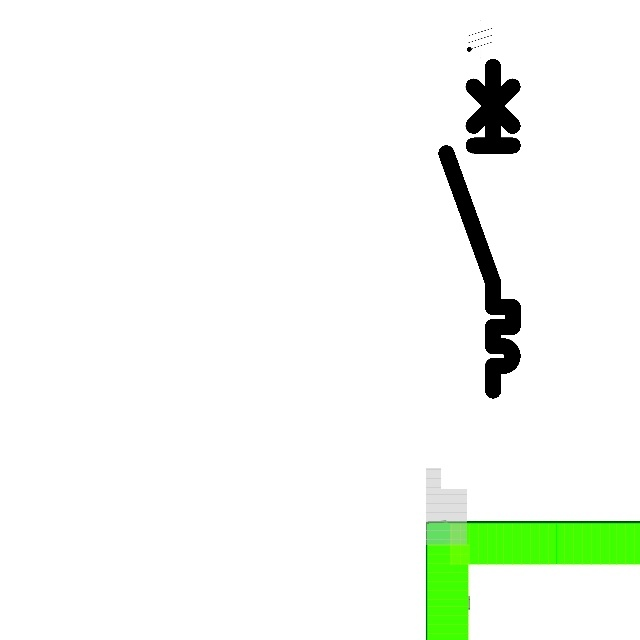interruptor_termomagnetico: (438, 58, 521, 398)
